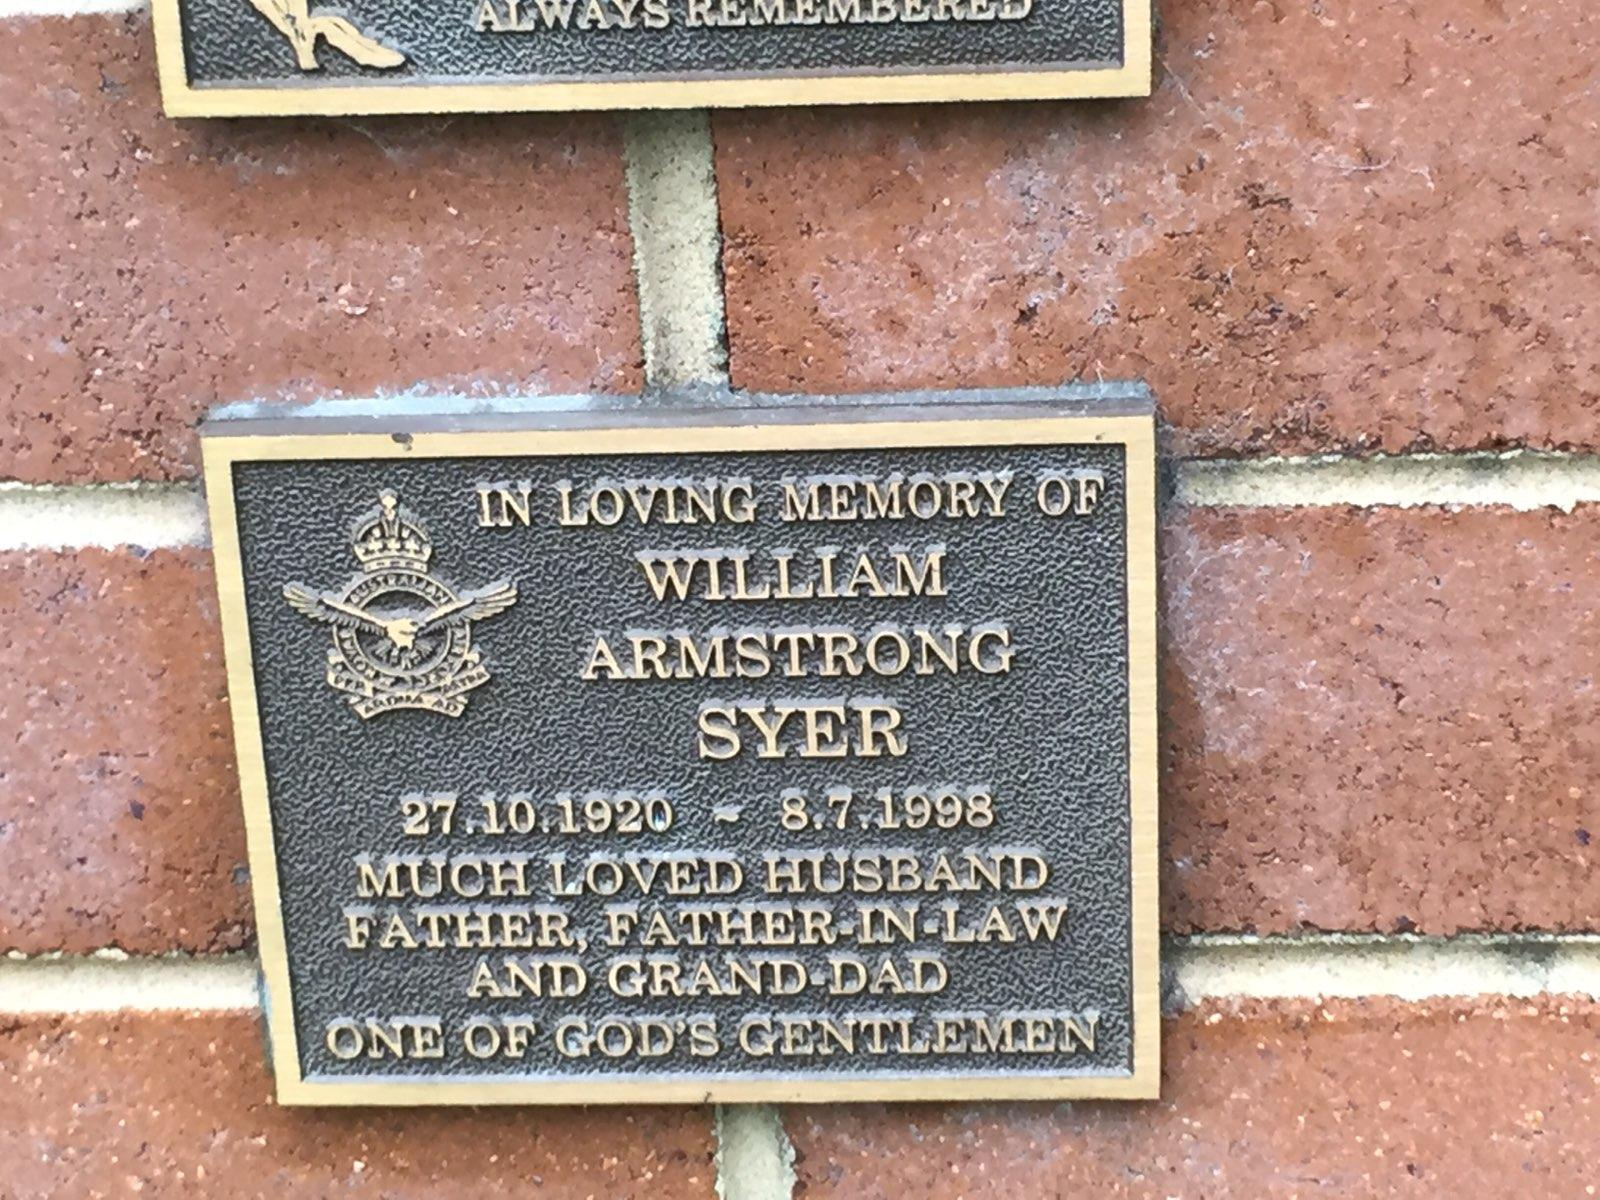plaque: (142, 376, 1233, 1137)
